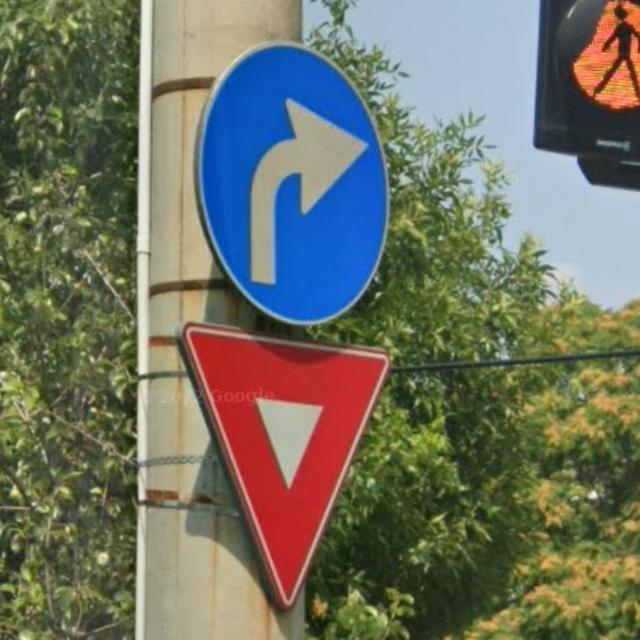prio_give_way: (173, 322, 395, 610)
